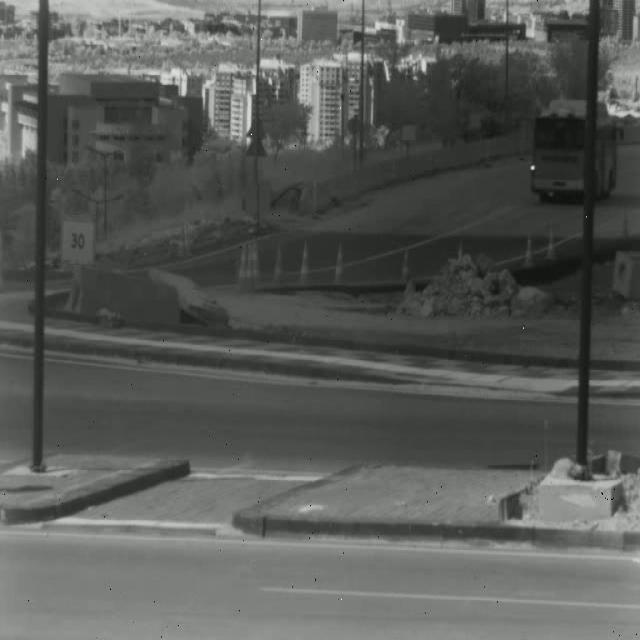Bus: (532, 101, 619, 202)
